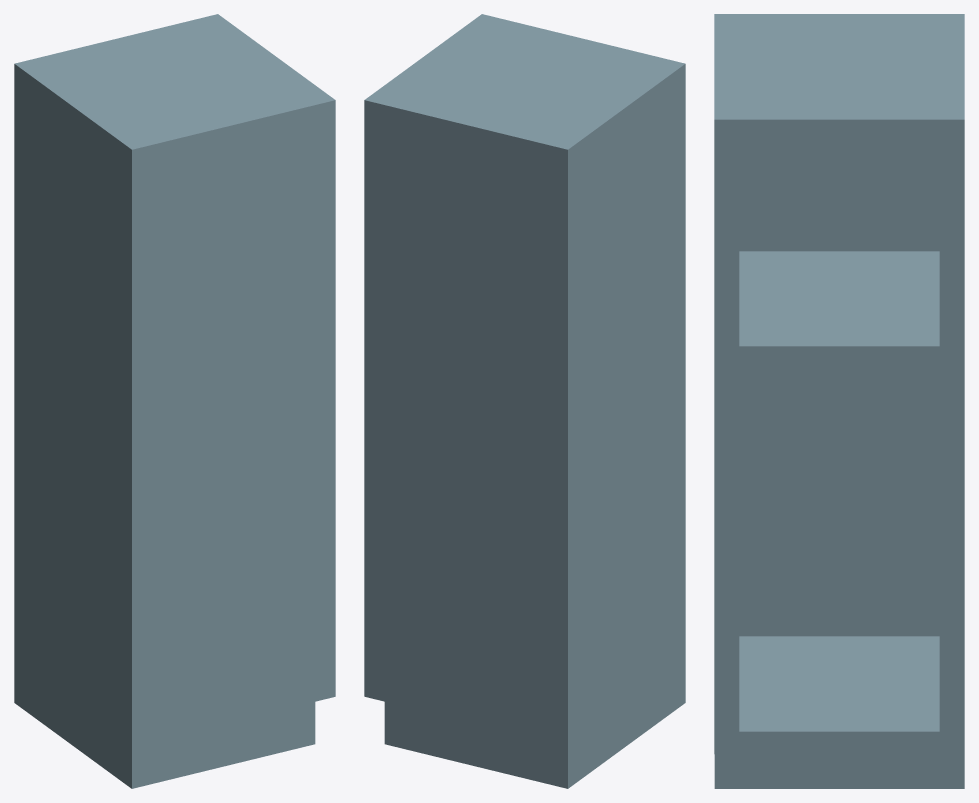
The model's file is cabinet_Body.ver2.fbx.
3 views of the same model, side by side, from view 1: azimuth 30°, elevation 25°; view 2: azimuth 150°, elevation 25°; view 3: azimuth 270°, elevation 25° (orthographic). The views are drawn at different scales.
Parts seen in each view (by area): view 1: Cube.001, Cube, Cube.004, Cube.003, Cube.002; view 2: Cube.002, Cube, Cube.004, Cube.003, Cube.001, Cube.005; view 3: Cube, Cube.003, Cube.004, Cube.005, Cube.002, Cube.001.
Boxes of the visible parts, x1,y1,x2,y2 form: Cube.001: [120, 91, 335, 746]; Cube: [14, 69, 151, 744]; Cube.004: [15, 22, 334, 163]; Cube.003: [14, 660, 315, 788]; Cube.002: [14, 14, 229, 437]; Cube.002: [364, 91, 579, 743]; Cube: [547, 59, 685, 724]; Cube.004: [365, 22, 673, 164]; Cube.003: [384, 639, 685, 788]; Cube.001: [470, 14, 685, 661]; Cube.005: [378, 277, 685, 379]; Cube: [714, 14, 939, 636]; Cube.003: [714, 636, 964, 788]; Cube.004: [714, 14, 964, 142]; Cube.005: [714, 251, 963, 368]; Cube.002: [939, 14, 964, 754]; Cube.001: [714, 14, 739, 754].
Bounding box in the file's own units: 200 × 600 × 200.
